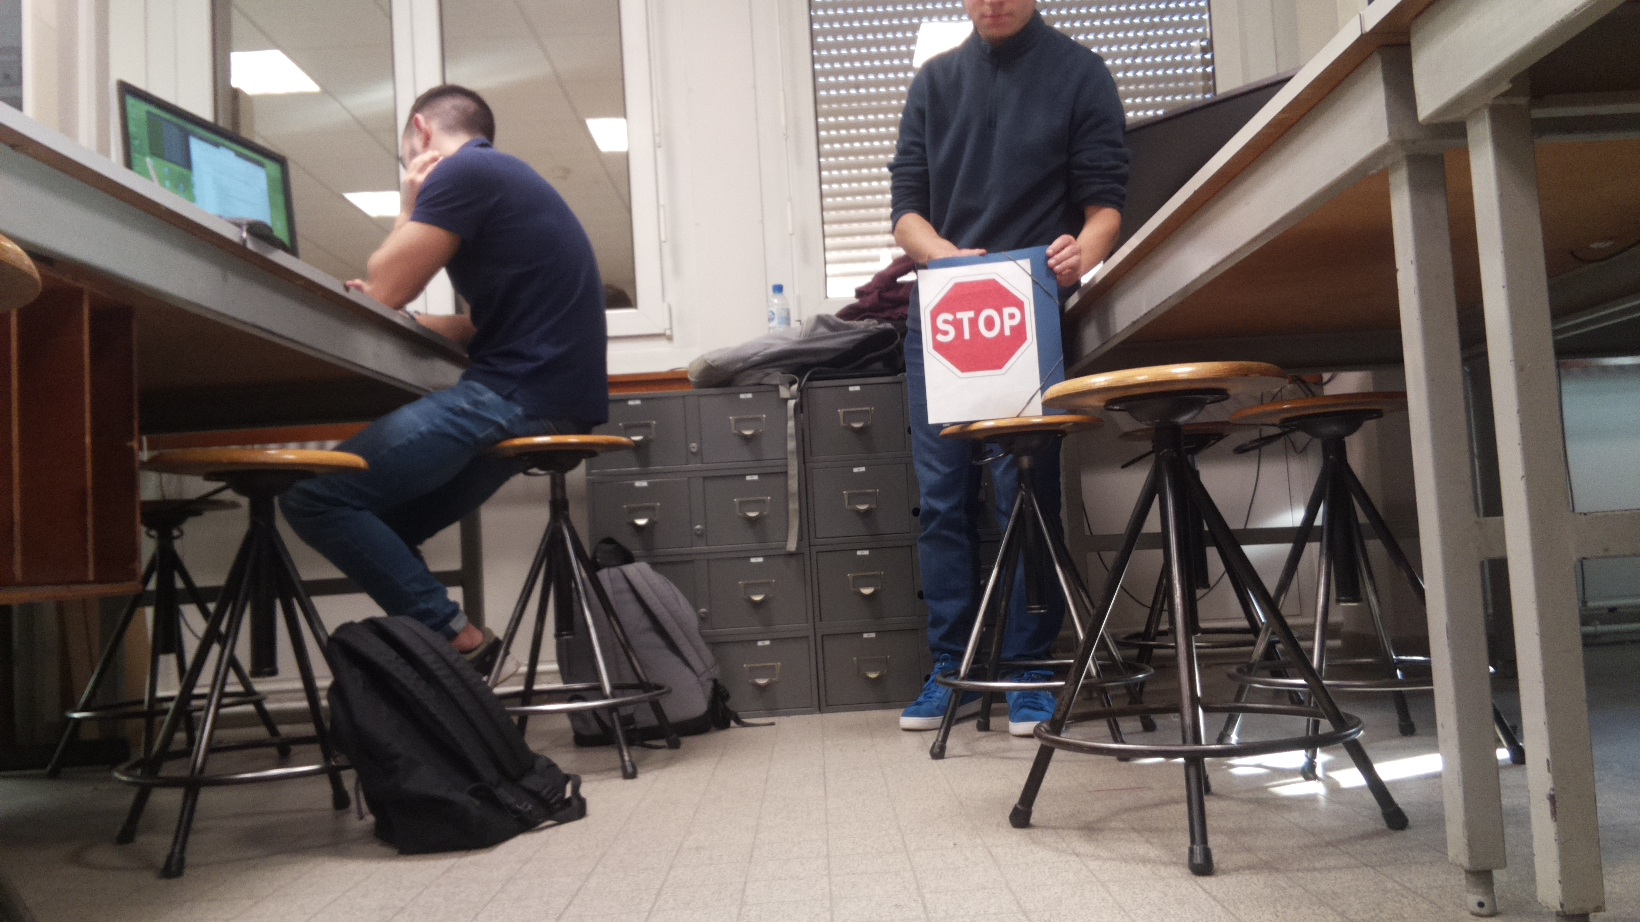stop: (922, 272, 1034, 378)
